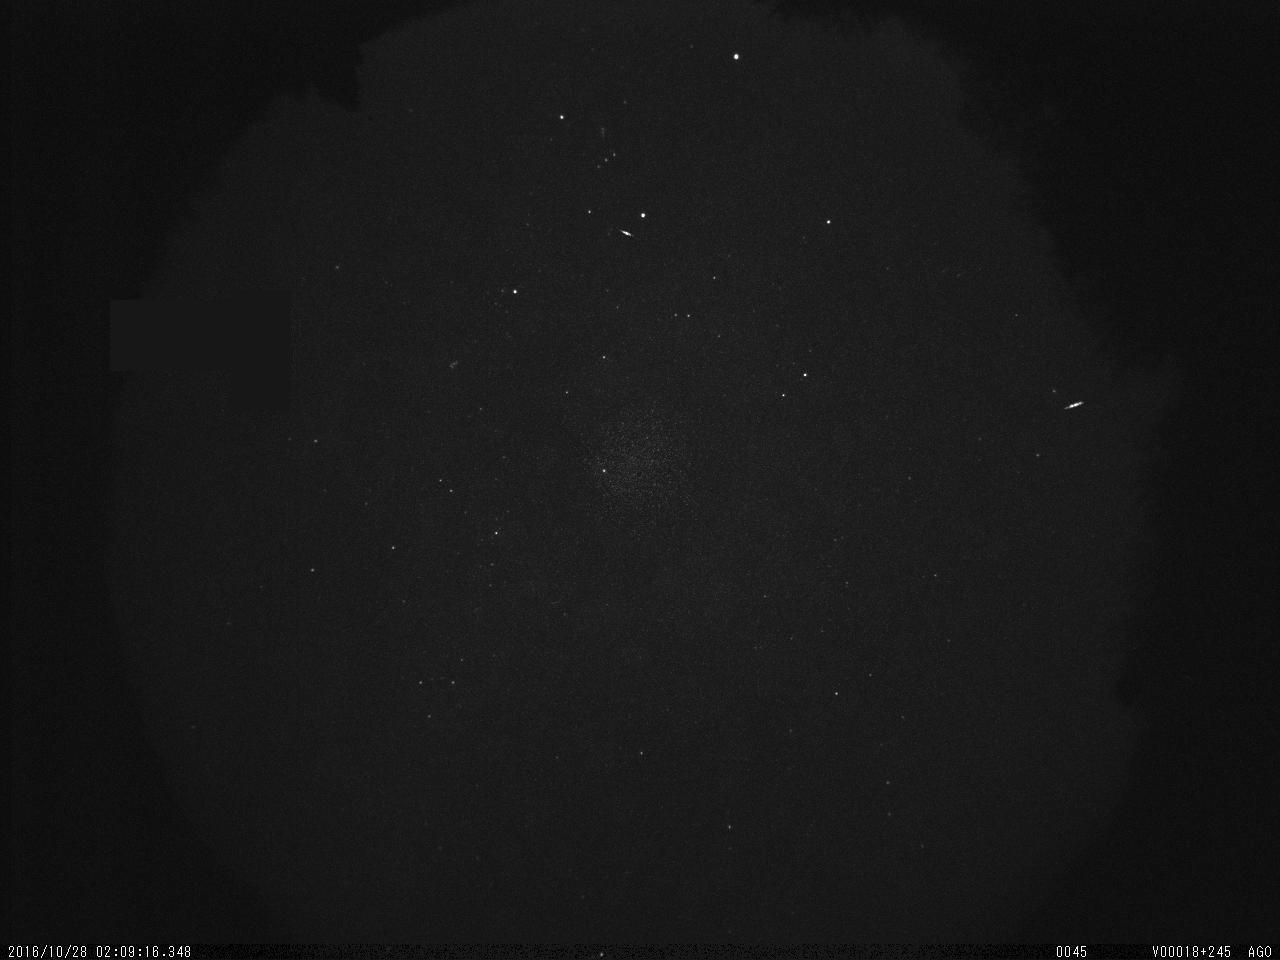meteor: (1059, 387, 1097, 422)
